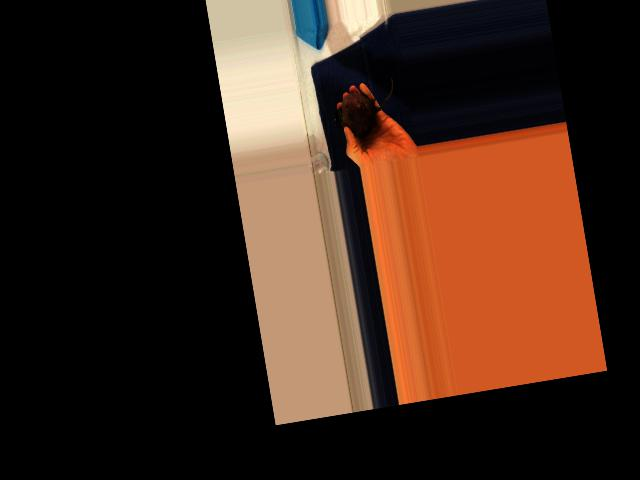beet: (329, 76, 401, 140)
